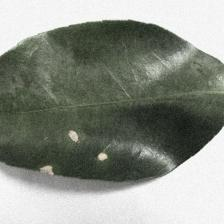canker: (25, 119, 123, 180)
